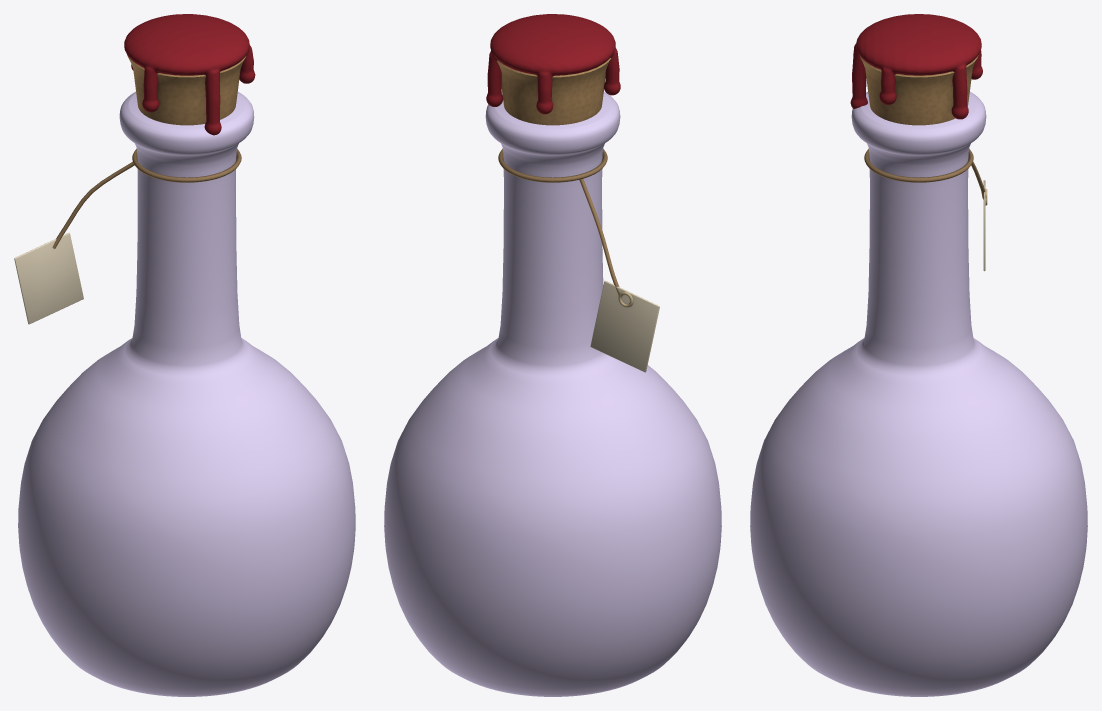
The model's file is piece_potion.fbx.
The picture shows the model from 3 angles, left to right: view 1: azimuth 30°, elevation 25°; view 2: azimuth 150°, elevation 25°; view 3: azimuth 270°, elevation 25°; orthographic projection.
Visible parts, largest first — view 1: piece_potion; view 2: piece_potion; view 3: piece_potion.
Part boxes in pixels (x1=…): piece_potion: x1=14, y1=14, x2=355, y2=696; piece_potion: x1=384, y1=14, x2=721, y2=696; piece_potion: x1=750, y1=14, x2=1087, y2=696.
Bounding box in the file's own units: 0.206 × 0.425 × 0.206.
